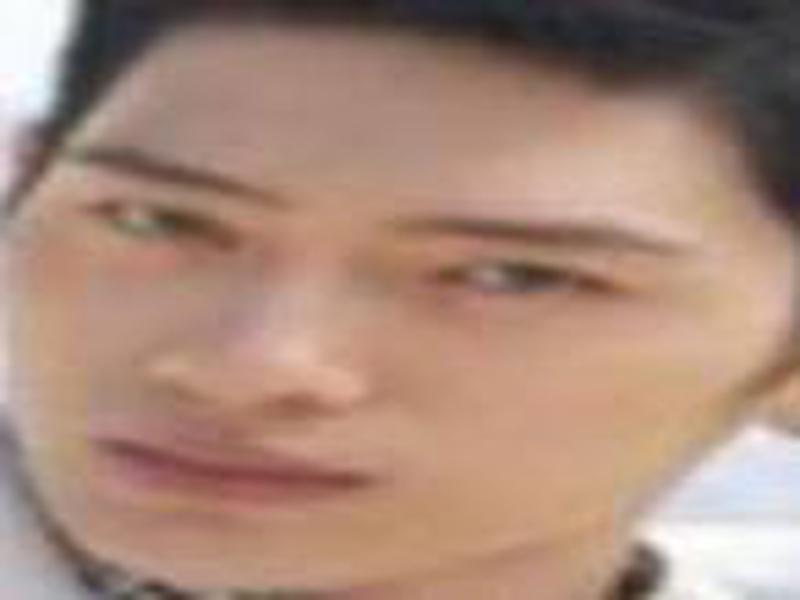without_mask: (2, 51, 745, 599)
